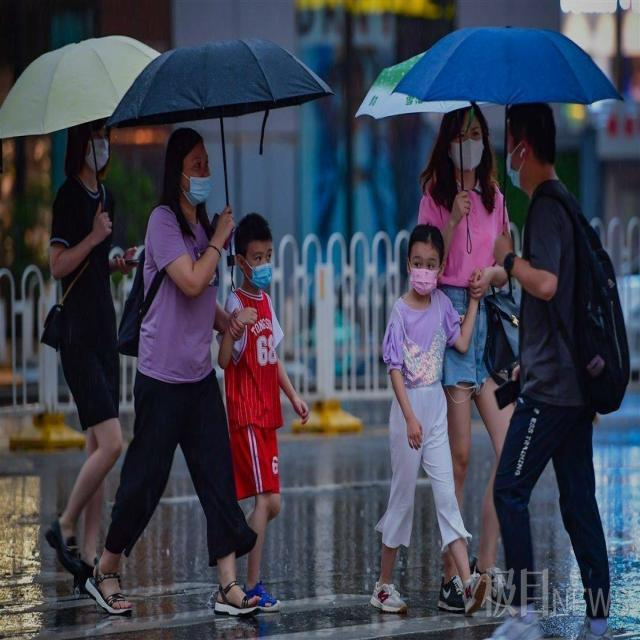non-fight: (85, 130, 262, 620), (490, 93, 629, 640), (414, 97, 517, 618), (372, 223, 485, 606), (215, 212, 307, 610), (45, 123, 122, 587)
